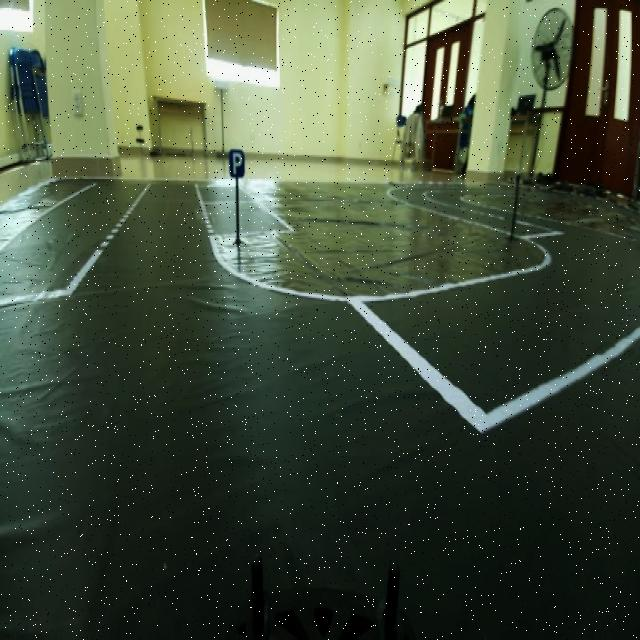parking: (224, 139, 253, 191)
